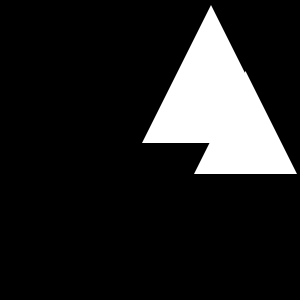triangle: (142, 5, 280, 143), (194, 71, 297, 174)
